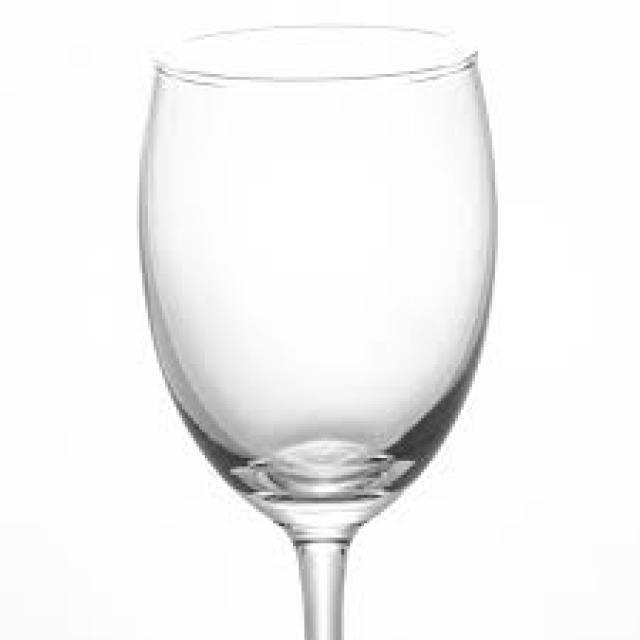Glass-Bottle: (111, 11, 542, 640)
